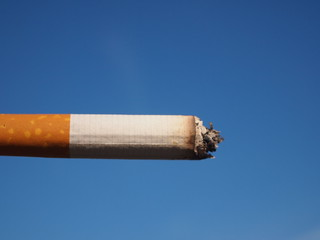cigarette: (1, 109, 226, 166)
